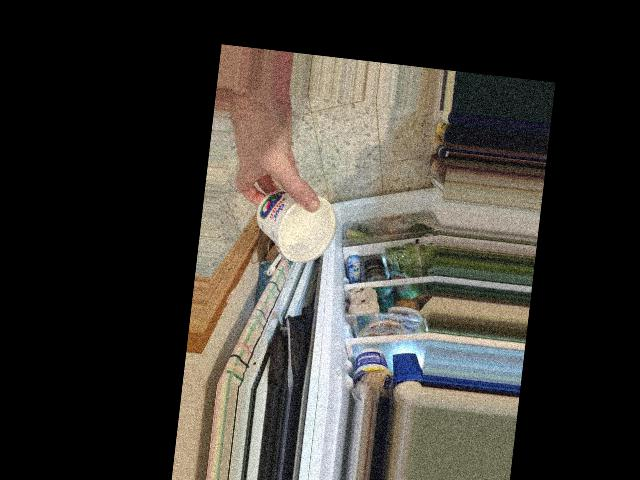cotage: (248, 181, 339, 267)
